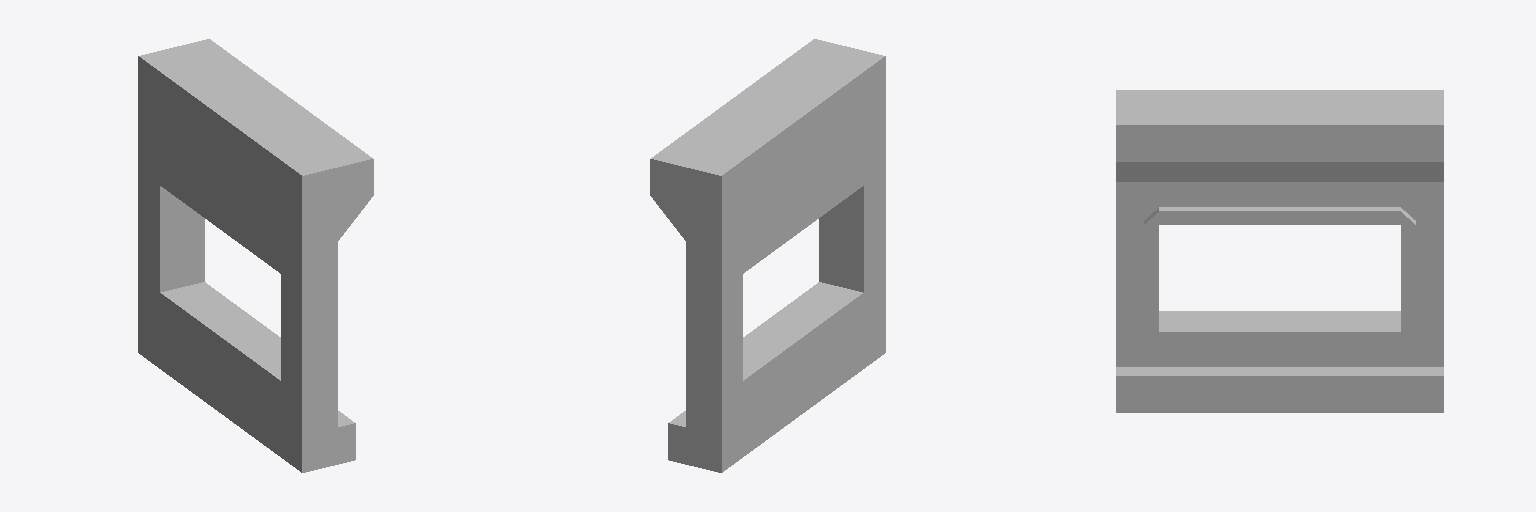
Rendered from spaceInterior_039.obj.
3 renders of one model, left to right at view 1: azimuth 30°, elevation 25°; view 2: azimuth 150°, elevation 25°; view 3: azimuth 270°, elevation 25°, orthographic.
Parts seen in each view (by area): view 1: Mesh1 Group1 Model; view 2: Mesh1 Group1 Model; view 3: Mesh1 Group1 Model.
Part boxes in pixels (x1,y1,x2,y2): Mesh1 Group1 Model: (138, 39, 373, 472); Mesh1 Group1 Model: (650, 39, 885, 472); Mesh1 Group1 Model: (1116, 90, 1443, 412).
Bounding box in the file's own units: 0.25 × 1 × 1.